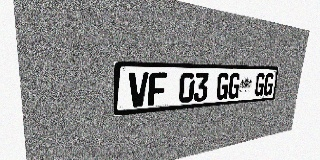0: (178, 72, 195, 103)
3: (193, 73, 209, 102)
F: (148, 72, 167, 106)
G: (215, 73, 230, 100), (227, 73, 241, 99), (254, 73, 266, 97), (263, 73, 274, 96)
V: (128, 72, 149, 108)
